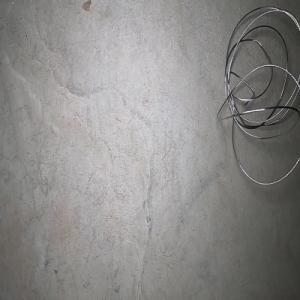Wire: (216, 6, 300, 185)
